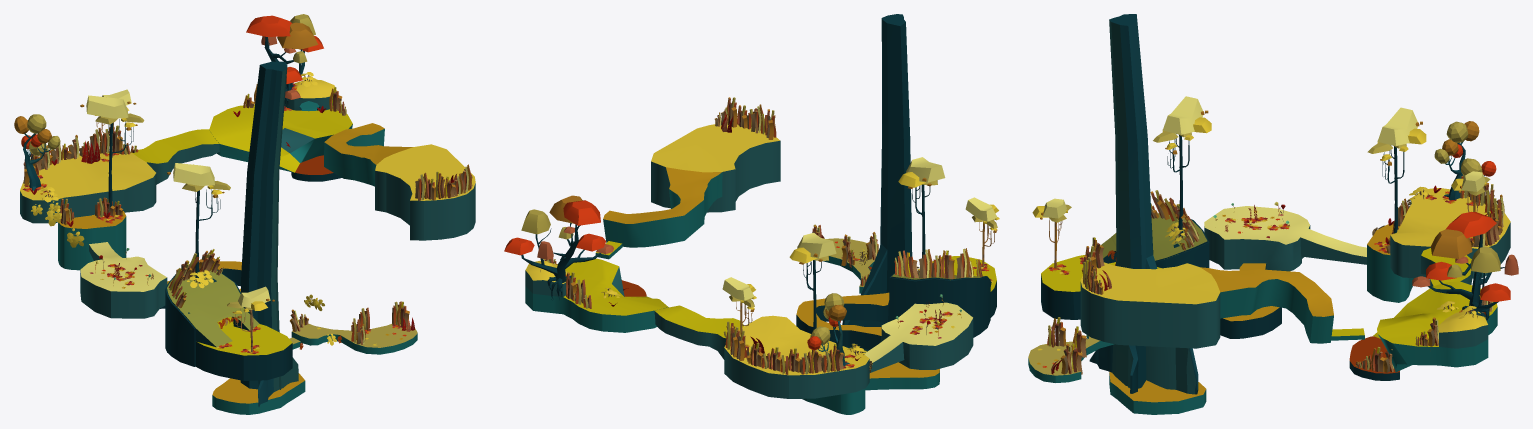
The model's file is Outono_Final.fbx.
The picture shows the model from 3 angles, left to right: view 1: azimuth 30°, elevation 25°; view 2: azimuth 150°, elevation 25°; view 3: azimuth 270°, elevation 25°; orthographic projection. The views are drawn at different scales.
Visible parts, largest first — view 1: ArvoreMedia_TipoB, pCube10, pCube24, polySurface6, pCube4, pCube7, pCube5, pCube14, ArvoreGrande_TipoA, pCube9, polySurface1, pCube27 (+6 smaller); view 2: pCube10, ArvoreMedia_TipoB, pCube24, polySurface6, pCube7, pCube14, ArvoreGrande_TipoA, pCube4, pCube6, pCube27, ArvoraMagrinha1, ArvoraMagrinha2 (+5 smaller); view 3: ArvoreMedia_TipoB, pCube24, pCube7, polySurface6, pCube14, pCube10, ArvoreGrande_TipoA, pCube4, pCube27, ArvoraMagrinha1, ArvoraMagrinha2, pCube9 (+7 smaller).
Part boxes in pixels (<box>): ArvoreMedia_TipoB: <box>240,61,298,407</box>; pCube10: <box>20,129,219,223</box>; pCube24: <box>375,144,475,240</box>; polySurface6: <box>209,79,352,172</box>; pCube4: <box>165,270,292,380</box>; pCube7: <box>80,242,167,318</box>; pCube5: <box>167,269,259,347</box>; pCube14: <box>324,123,412,186</box>; ArvoreGrande_TipoA: <box>246,14,323,107</box>; pCube9: <box>58,211,126,270</box>; polySurface1: <box>291,323,417,354</box>; pCube27: <box>212,373,305,414</box>; pCube10: <box>654,305,869,398</box>; ArvoreMedia_TipoB: <box>842,14,912,352</box>; pCube24: <box>651,124,780,212</box>; polySurface6: <box>525,258,668,332</box>; pCube7: <box>864,302,973,372</box>; pCube14: <box>603,167,722,247</box>; ArvoreGrande_TipoA: <box>504,195,613,300</box>; pCube4: <box>888,256,996,337</box>; pCube6: <box>796,292,889,349</box>; pCube27: <box>865,362,939,390</box>; ArvoraMagrinha1: <box>898,157,945,258</box>; ArvoraMagrinha2: <box>789,232,836,329</box>; ArvoreMedia_TipoB: <box>1089,14,1198,394</box>; pCube24: <box>1080,262,1220,348</box>; pCube7: <box>1204,206,1366,271</box>; polySurface6: <box>1373,281,1497,371</box>; pCube14: <box>1200,267,1333,343</box>; pCube10: <box>1390,188,1510,288</box>; ArvoreGrande_TipoA: <box>1412,211,1518,320</box>; pCube4: <box>1041,219,1209,319</box>; pCube27: <box>1109,372,1206,414</box>; ArvoraMagrinha1: <box>1153,96,1211,235</box>; ArvoraMagrinha2: <box>1367,107,1426,233</box>; pCube9: <box>1367,224,1413,302</box>.
Size of the model in its own units: 26712 by 25421 by 30088.
